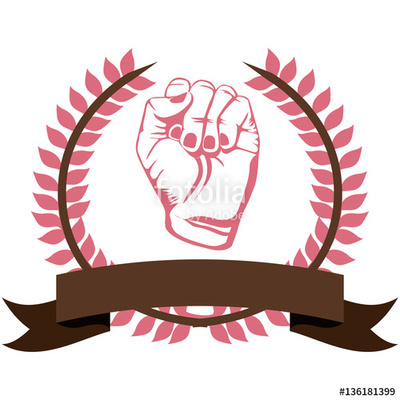closedhandfront: (138, 78, 261, 256)
